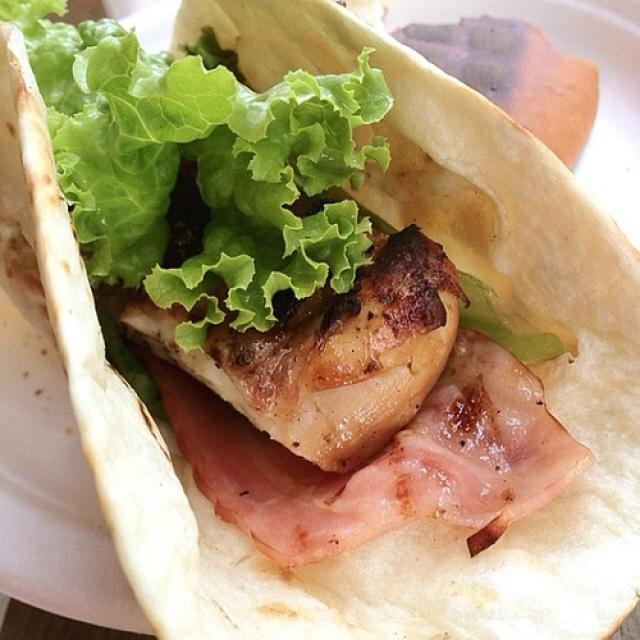面包点心: (4, 10, 635, 611)
